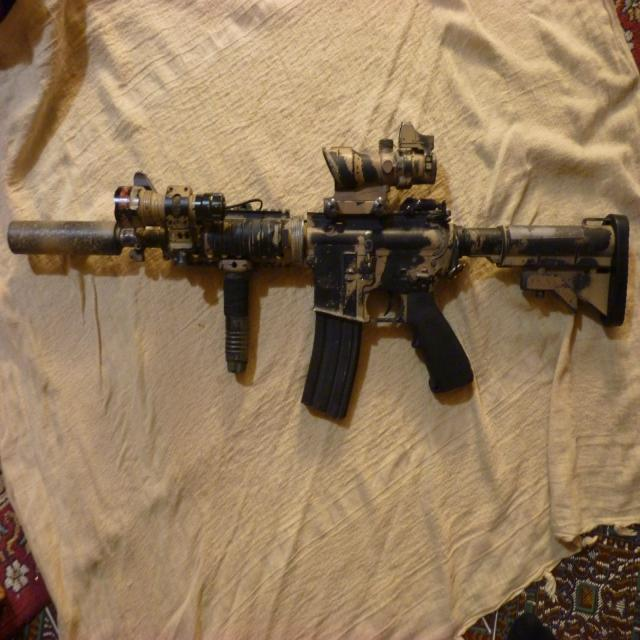firearm: (5, 118, 632, 424)
